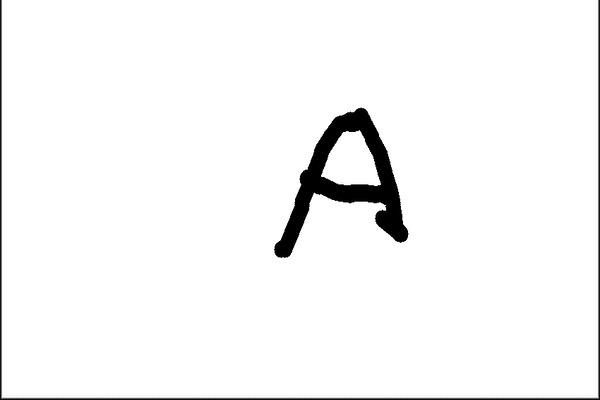A: (259, 102, 421, 258)
